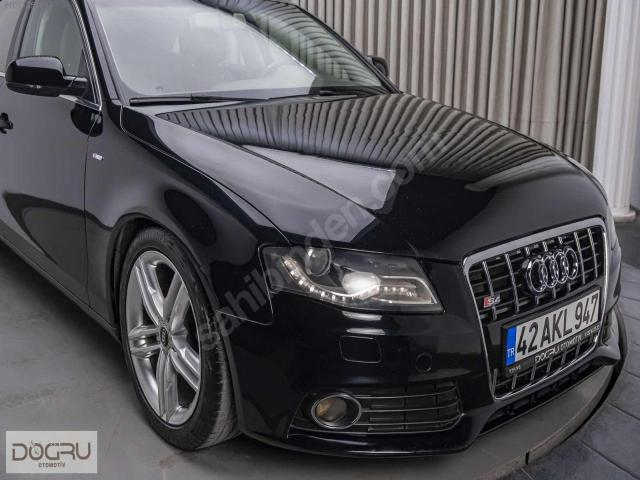plaka: (505, 288, 599, 374)
